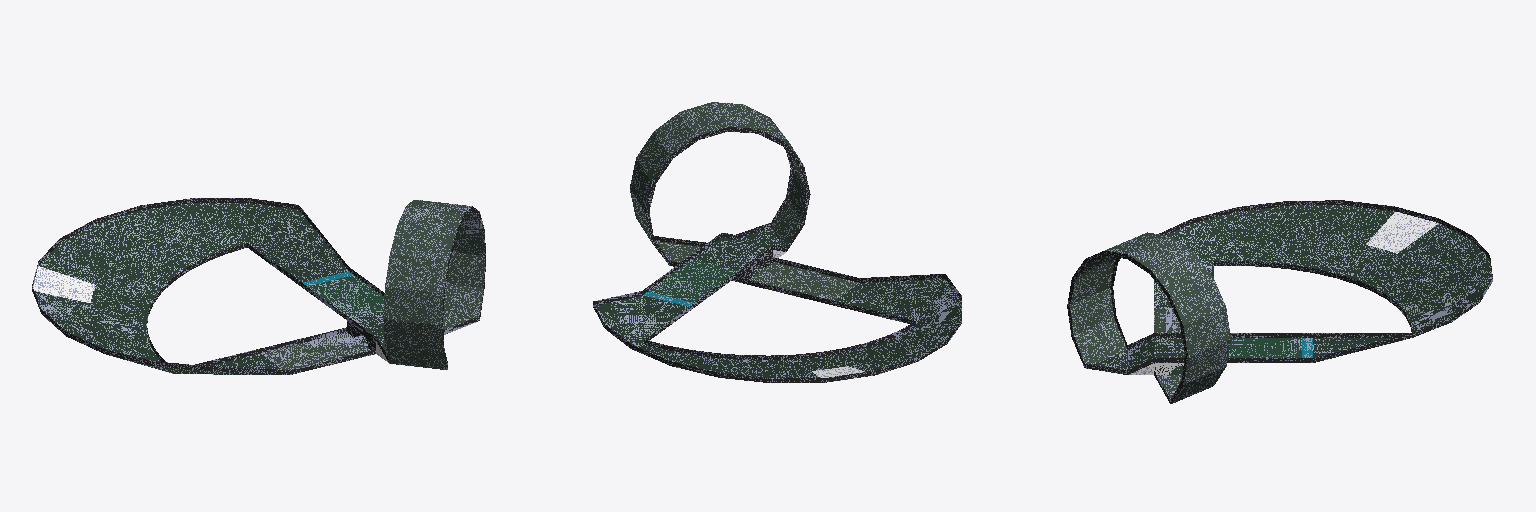
Rendered from Mute+City+Flip+Road.obj.
3 renders of one model, left to right at view 1: azimuth 30°, elevation 25°; view 2: azimuth 150°, elevation 25°; view 3: azimuth 270°, elevation 25°, orthographic.
Parts seen in each view (by area): view 1: Mesh1 Component_1_1 Model; view 2: Mesh1 Component_1_1 Model; view 3: Mesh1 Component_1_1 Model.
Boxes of the visible parts, x1=… form: Mesh1 Component_1_1 Model: x1=32, y1=198, x2=485, y2=374; Mesh1 Component_1_1 Model: x1=593, y1=102, x2=961, y2=382; Mesh1 Component_1_1 Model: x1=1067, y1=200, x2=1492, y2=403.
Bounding box in the file's own units: 314 × 108 × 314.